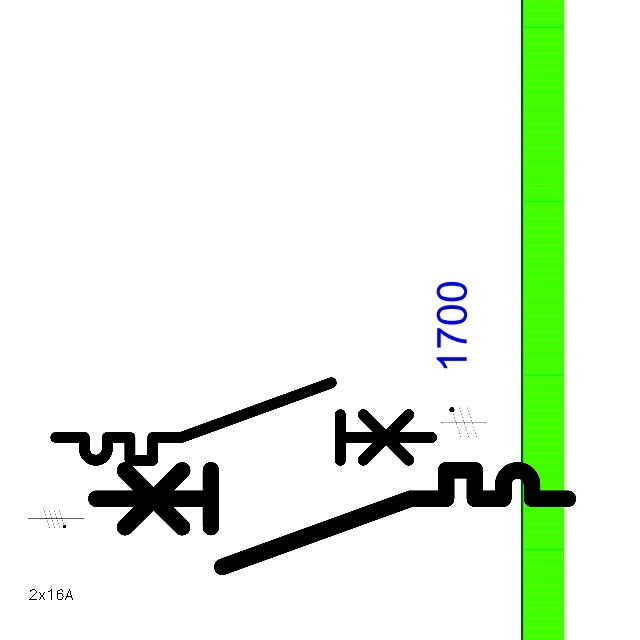interruptor_termomagnetico: (84, 458, 580, 579), (46, 373, 441, 470)
